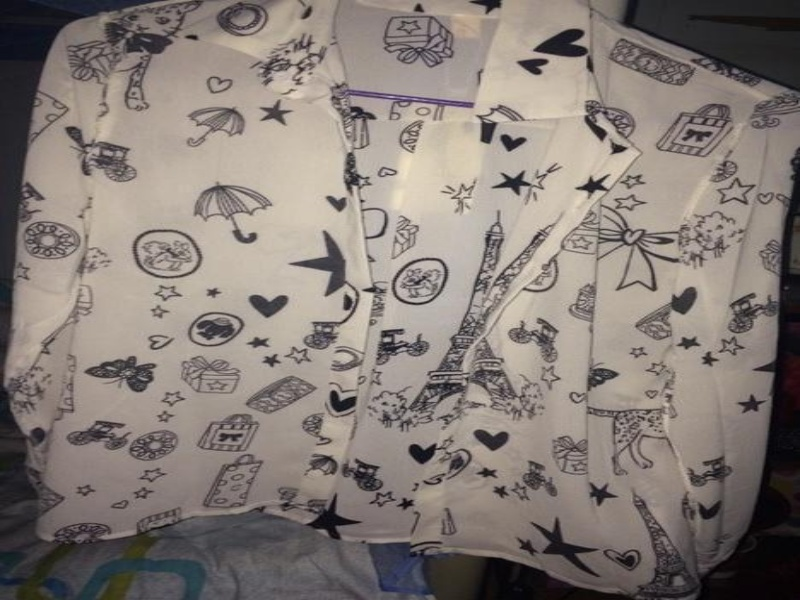long_sleeved_outwear: (3, 1, 798, 599)
